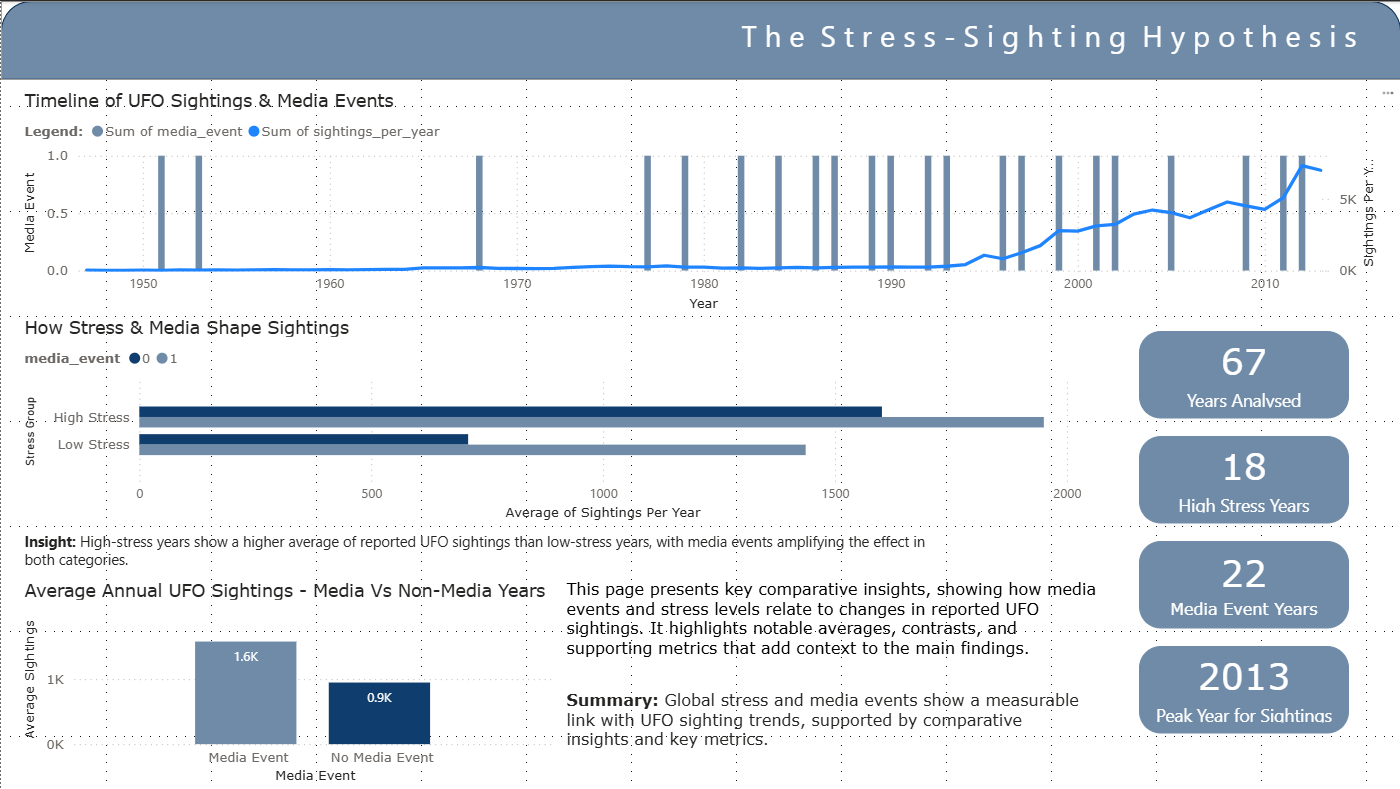

Layout of this report page (visuals, bound fields, positions):
{"tool":"powerbi","page":{"name":"Page 2","canvas":[1280,720],"ordinal":1},"visuals":[{"type":"shape","box":[0,0,1280,72],"z":0},{"type":"card","fields":{"Values":["final_merged_dataset.Total Years Analysed"]},"box":[1040,301.6,192,80],"z":1000},{"type":"textbox","box":[672,8,576,48],"z":2000},{"type":"card","fields":{"Values":["final_merged_dataset.High Stress Years"]},"box":[1040,397.6,192,80],"z":3000},{"type":"lineClusteredColumnComboChart","title":"Timeline of UFO Sightings & Media Events","fields":{"Category":["final_merged_dataset.year"],"Y2":["Sum(final_merged_dataset.sightings_per_year)"],"Y":["Sum(final_merged_dataset.media_event)"]},"box":[16,80,1248,208],"z":4000},{"type":"card","fields":{"Values":["final_merged_dataset.Years with Media Events"]},"box":[1040,493.6,192,80],"z":5000},{"type":"clusteredBarChart","title":"How Stress & Media Shape Sightings","fields":{"Category":["final_merged_dataset.stress_group"],"Y":["Avg(final_merged_dataset.sightings_per_year)"],"Series":["final_merged_dataset.media_event"]},"box":[16,288,976,192],"z":6000},{"type":"textbox","box":[16,480,848,48],"z":7000},{"type":"clusteredColumnChart","title":"Average Annual UFO Sightings - Media Vs Non-Media Years","fields":{"Y":["Avg(final_merged_dataset.sightings_per_year)"],"Category":["final_merged_dataset.media_event_label"]},"box":[16,528,496,192],"z":8000},{"type":"textbox","box":[512,512,496,128],"z":9000},{"type":"card","fields":{"Values":["final_merged_dataset.Peak_Year_Sightings"]},"box":[1040,589.6,192,80],"z":10000},{"type":"textbox","box":[512,624,480,80],"z":11000}]}

Visuals, with their boxes in screenshot pixels (x1, y1, x2, y2), scaled from the page's 1280x720 canvas onto the 1400x789 screenshot:
shape: locate(0, 0, 1399, 79)
card - final_merged_dataset.Total Years Analysed: locate(1138, 331, 1348, 418)
textbox: locate(735, 9, 1365, 61)
card - final_merged_dataset.High Stress Years: locate(1138, 436, 1348, 523)
"Timeline of UFO Sightings & Media Events" lineClusteredColumnComboChart: locate(18, 88, 1382, 316)
card - final_merged_dataset.Years with Media Events: locate(1138, 541, 1348, 629)
"How Stress & Media Shape Sightings" clusteredBarChart: locate(18, 316, 1085, 526)
textbox: locate(18, 526, 945, 579)
"Average Annual UFO Sightings - Media Vs Non-Media Years" clusteredColumnChart: locate(18, 579, 560, 788)
textbox: locate(560, 561, 1102, 701)
card - final_merged_dataset.Peak_Year_Sightings: locate(1138, 646, 1348, 734)
textbox: locate(560, 684, 1085, 771)
